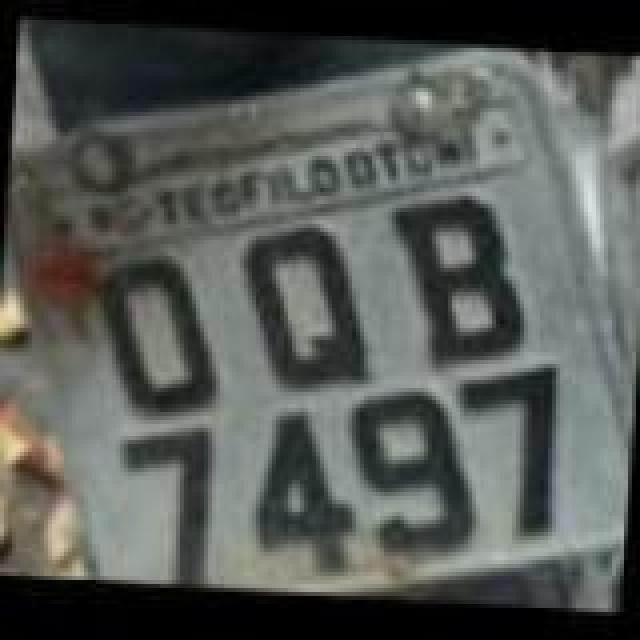4: (242, 400, 374, 588)
7: (450, 362, 570, 546), (104, 428, 224, 592)
9: (342, 380, 486, 572)
B: (374, 180, 538, 380)
O: (86, 248, 234, 428)
Q: (228, 212, 380, 400)
